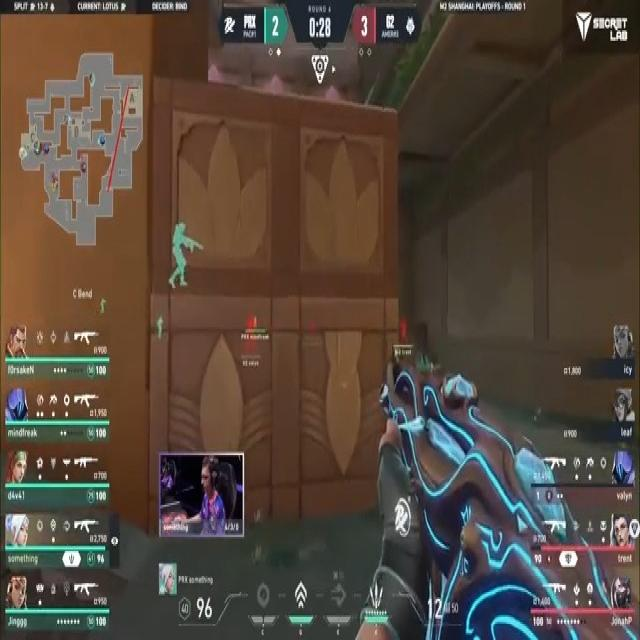ally behind wall: (167, 217, 206, 296)
